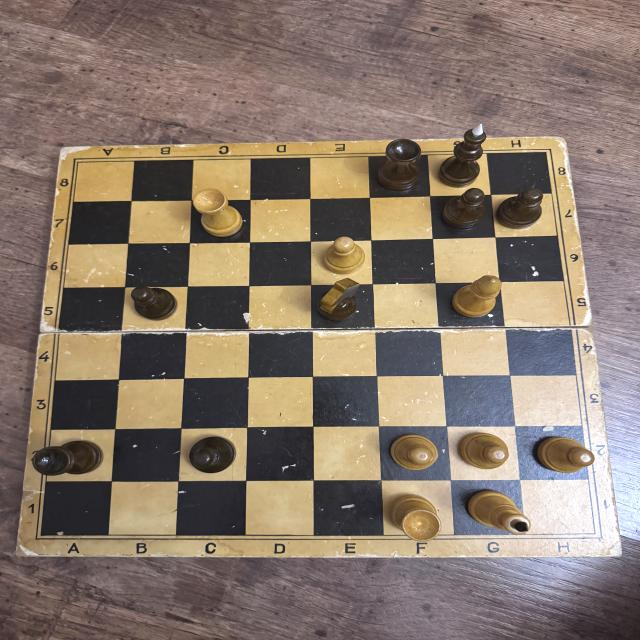black-king: (438, 122, 486, 188)
black-knight: (315, 277, 361, 321)
black-pawn: (496, 187, 544, 229), (186, 435, 236, 475), (442, 188, 488, 229), (130, 285, 178, 322)
black-rook: (375, 136, 427, 193), (31, 438, 106, 477)
white-bishop: (451, 274, 502, 320)
white-king: (465, 488, 531, 534)
white-pawn: (536, 436, 593, 474), (389, 431, 439, 472), (459, 431, 510, 470), (322, 236, 365, 274)
white-rook: (193, 188, 244, 238), (389, 494, 442, 542)
